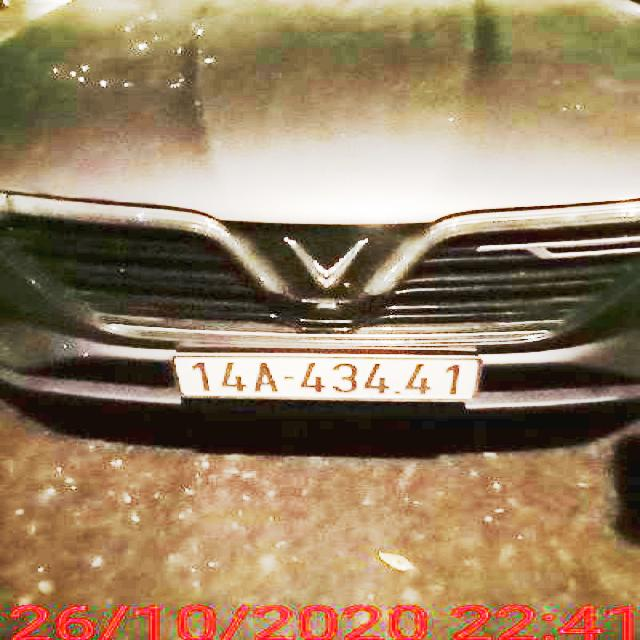license_plate: (168, 356, 484, 403)
